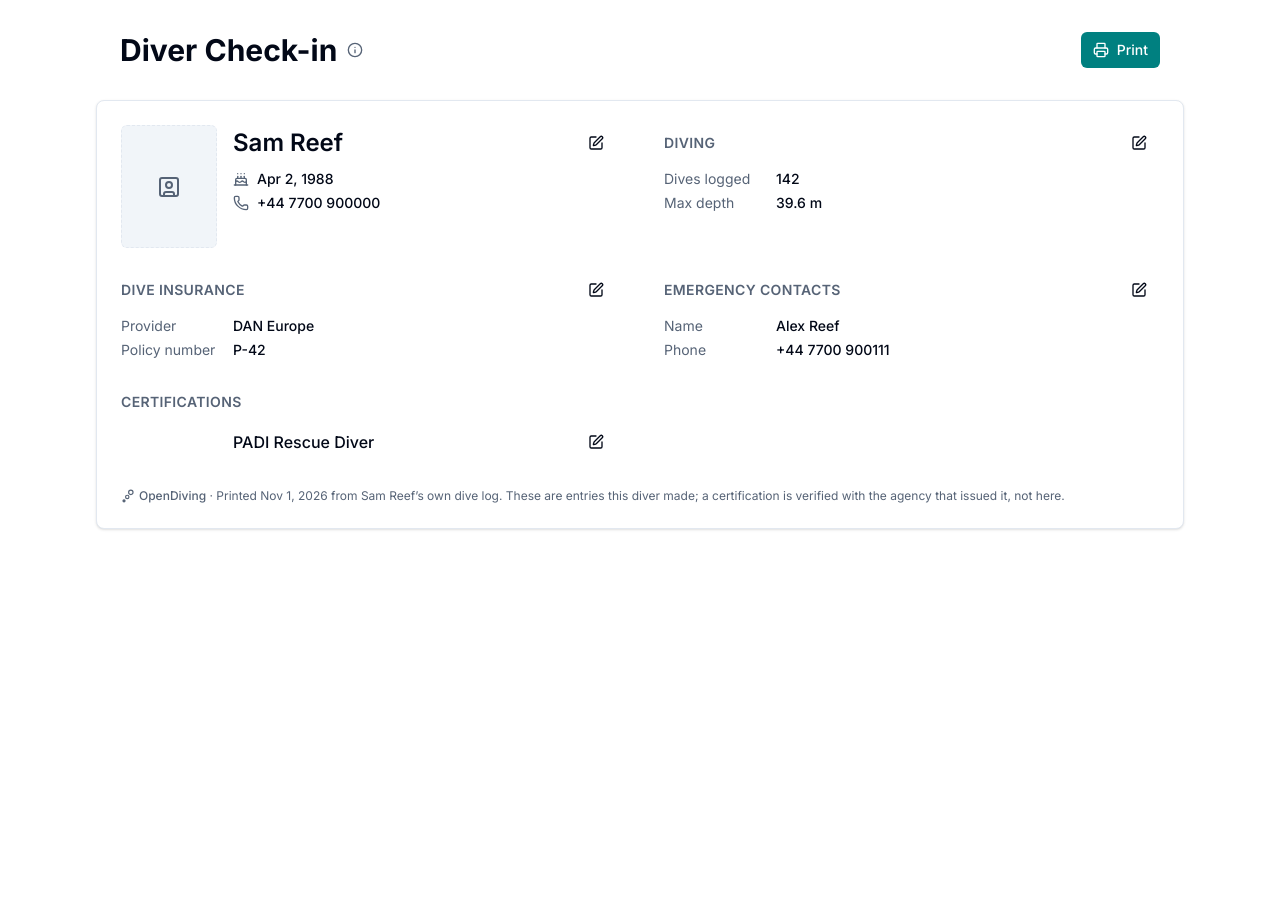
Test: editing from the sheet › opens the settings form over the summary, and gives the summary back on save
Click the button named "Edit your name, portrait, date of birth, phone number and email" at point(596, 143), box top-left (576, 125), bottom-right (616, 161)
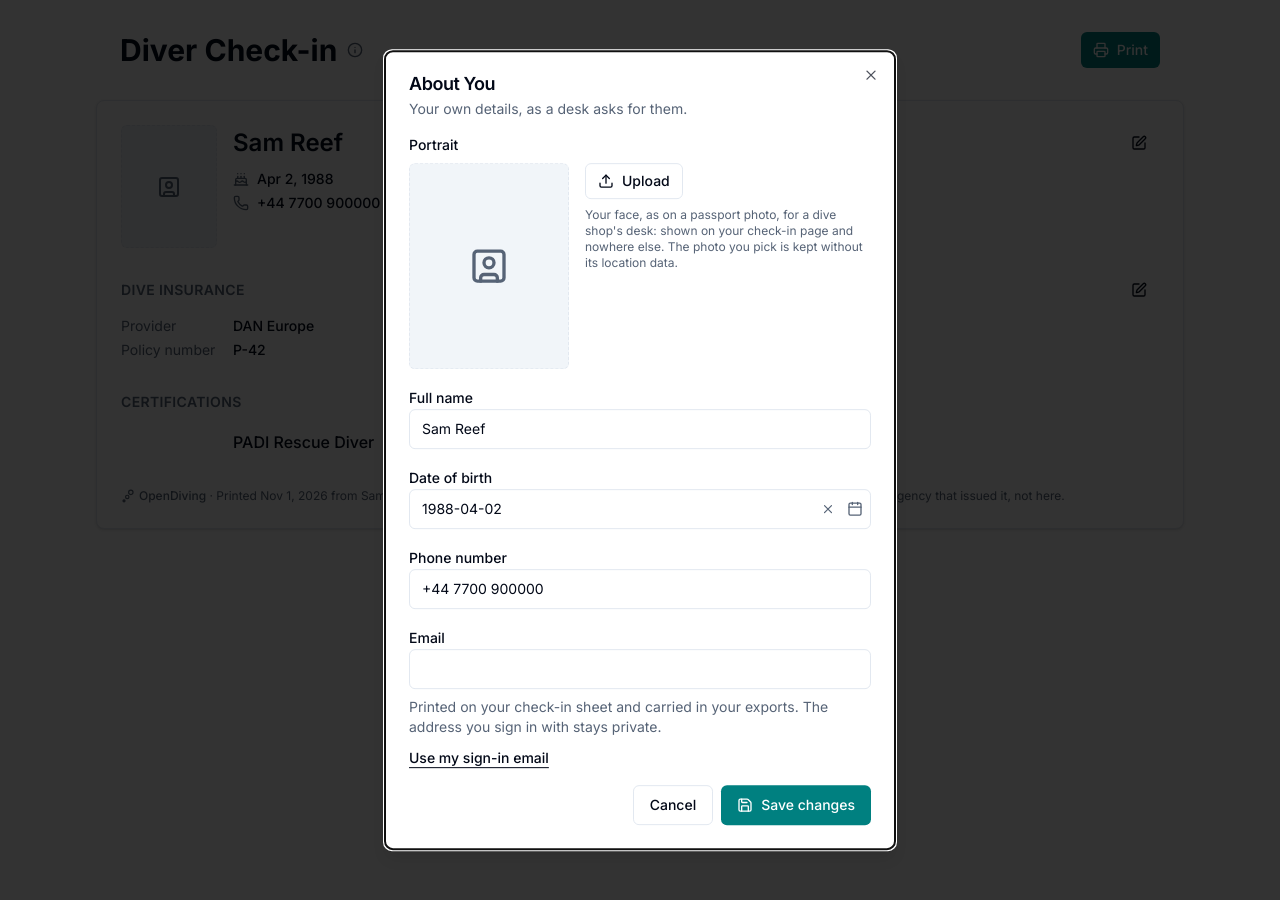
Expected: the field labelled "Phone number" holds "+44 7700 900000"
Expected: the field labelled "Full name" holds "Sam Reef", top-left (409, 409), bottom-right (871, 449)
Replace the text in the field labelled "Phone number" with "0123" at point(640, 589), box top-left (409, 569), bottom-right (871, 609)
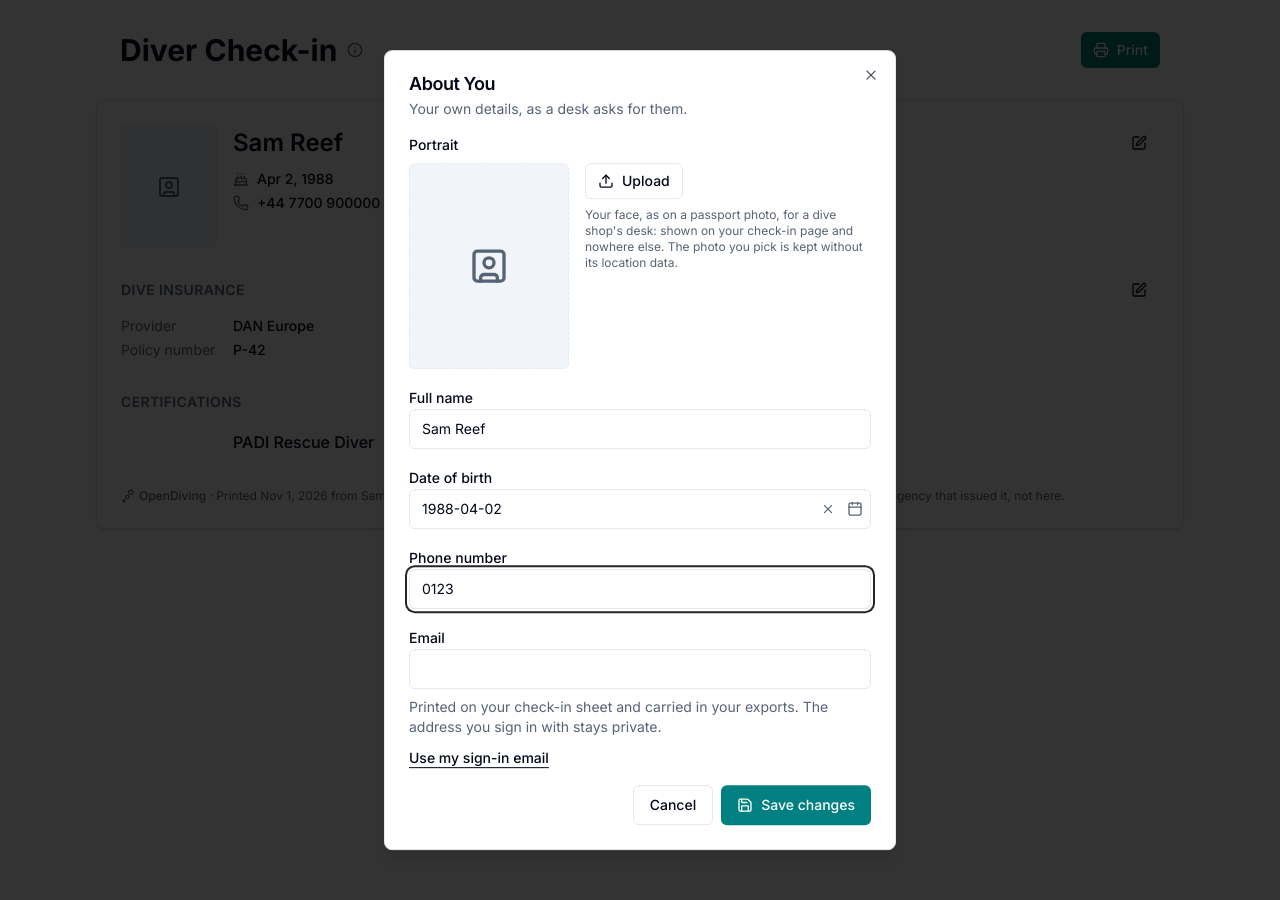
Click the button "Save changes" at point(796, 805), box top-left (721, 785), bottom-right (871, 825)
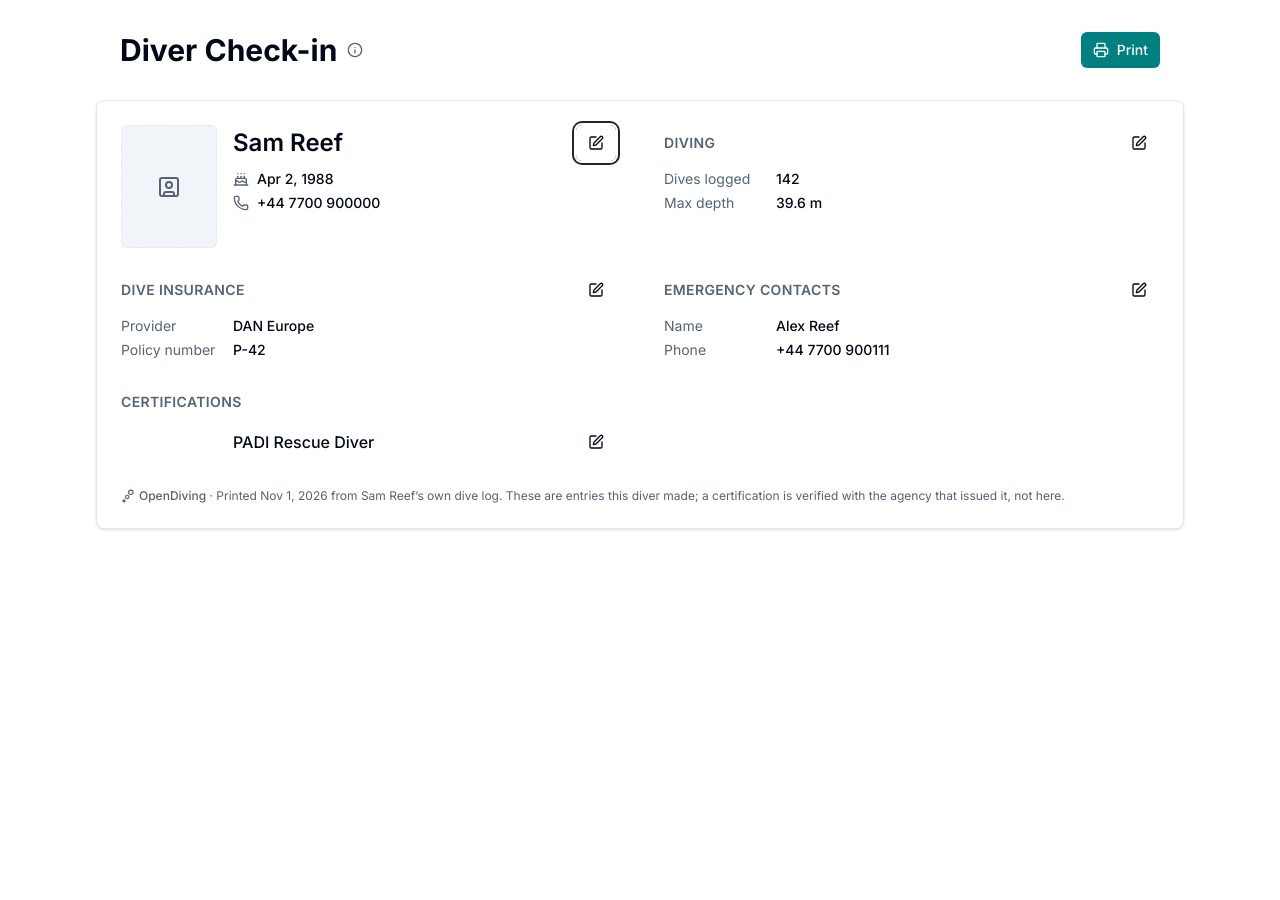
Expected: the heading "About You" is gone
